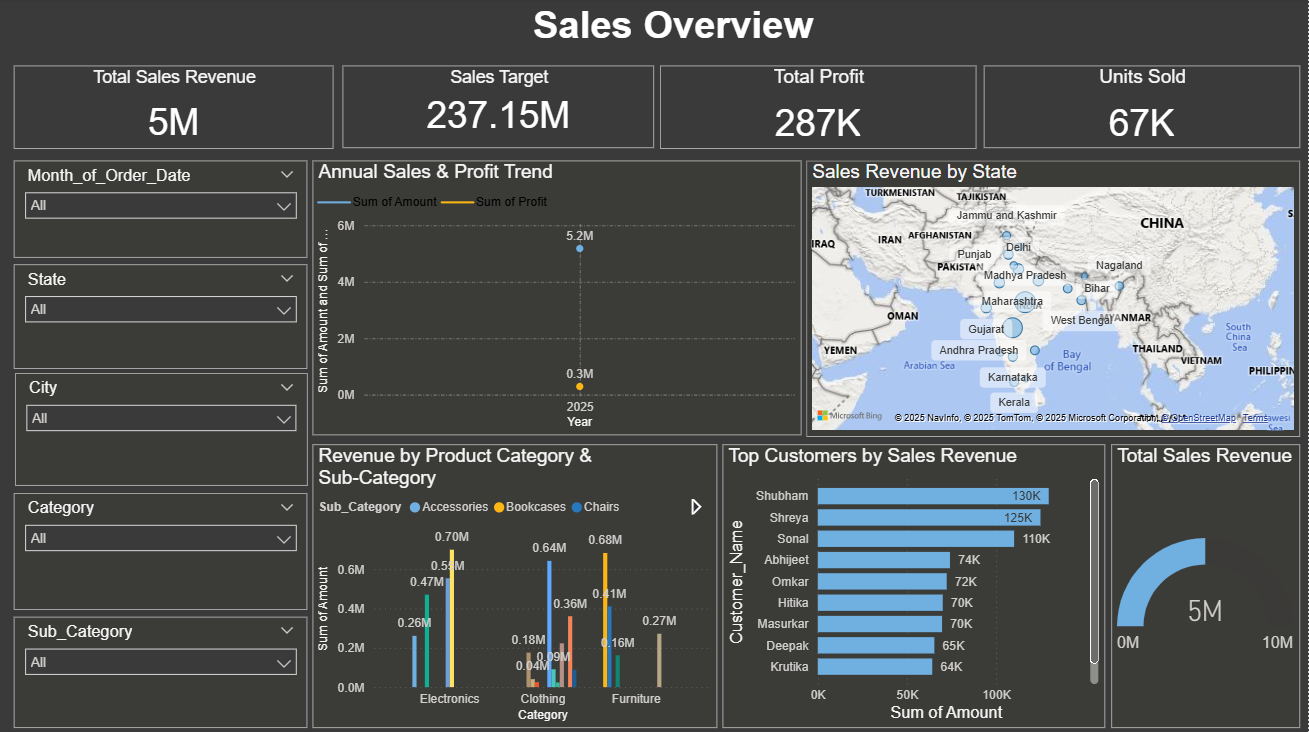

What the dashboard file says about the page in this screenshot:
{"tool":"powerbi","page":{"name":"Sales Overview","canvas":[1280,720],"ordinal":0},"visuals":[{"type":"cardVisual","title":"Total Sales Revenue","fields":{"Data":["Sum(Query1.Amount)"]},"box":[13.5,66,313,81.9],"z":0},{"type":"cardVisual","title":"Total Profit","fields":{"Data":["Sum(Query1.Profit)"]},"box":[646,66,309.4,81.9],"z":1000},{"type":"cardVisual","title":"Units Sold","fields":{"Data":["Sum(Query1.Quantity)"]},"box":[962.4,66,309.4,81],"z":2000},{"type":"cardVisual","title":"Sales Target","fields":{"Data":["Sum(Query1.Target)"]},"box":[335.1,66,305,80.7],"z":3000},{"type":"slicer","fields":{"Values":["Query1.Month_of_Order_Date"]},"box":[13.5,159,287.4,95.4],"z":4000},{"type":"slicer","fields":{"Values":["Query1.State"]},"box":[13.5,260.5,287.4,102],"z":5000},{"type":"slicer","fields":{"Values":["Query1.City"]},"box":[14.7,366.8,286.1,110],"z":6000},{"type":"slicer","fields":{"Values":["Query1.Category"]},"box":[13.5,484.2,287.4,114],"z":7000},{"type":"slicer","fields":{"Values":["Query1.Sub_Category"]},"box":[13.5,605.3,287.4,108.8],"z":8000},{"type":"lineChart","title":"Annual Sales & Profit Trend","fields":{"Category":["Query1.Month_of_Order_Date.Variation.Date Hierarchy.Year","Query1.Month_of_Order_Date.Variation.Date Hierarchy.Quarter","Query1.Month_of_Order_Date.Variation.Date Hierarchy.Month","Query1.Month_of_Order_Date.Variation.Date Hierarchy.Day"],"Y":["Sum(Query1.Amount)","Sum(Query1.Profit)"]},"box":[305.7,159,478.1,269],"z":9000},{"type":"map","title":"Sales Revenue by State","fields":{"Category":["Query1.State"],"Size":["Sum(Query1.Amount)"]},"box":[788.7,159,483,270.2],"z":10000},{"type":"barChart","title":"Top Customers by Sales Revenue","fields":{"Category":["Query1.Customer_Name"],"Y":["Sum(Query1.Amount)"]},"box":[706.8,436.6,374.2,277.6],"z":11000},{"type":"clusteredColumnChart","title":"Revenue by Product Category & Sub-Category","fields":{"Category":["Query1.Category"],"Y":["Sum(Query1.Amount)"],"Series":["Query1.Sub_Category"]},"box":[305.7,436.6,396.2,277.6],"z":12000},{"type":"gauge","title":"Total Sales Revenue","fields":{"TargetValue":["Sum(Query1.Target)"],"Y":["Sum(Query1.Amount)"]},"box":[1087.1,436.6,184.6,277.6],"z":13000},{"type":"textbox","box":[36.7,0,1243.6,55],"z":14000}]}

Visuals, with their boxes in screenshot pixels (x1, y1, x2, y2), scaled from the page's 1280x720 canvas onto the 1309x732 screenshot:
"Total Sales Revenue" cardVisual: box(14, 67, 334, 150)
"Total Profit" cardVisual: box(661, 67, 977, 150)
"Units Sold" cardVisual: box(984, 67, 1301, 149)
"Sales Target" cardVisual: box(343, 67, 655, 149)
slicer - Query1.Month_of_Order_Date: box(14, 162, 308, 259)
slicer - Query1.State: box(14, 265, 308, 369)
slicer - Query1.City: box(15, 373, 308, 485)
slicer - Query1.Category: box(14, 492, 308, 608)
slicer - Query1.Sub_Category: box(14, 615, 308, 726)
"Annual Sales & Profit Trend" lineChart: box(313, 162, 802, 435)
"Sales Revenue by State" map: box(807, 162, 1301, 436)
"Top Customers by Sales Revenue" barChart: box(723, 444, 1105, 726)
"Revenue by Product Category & Sub-Category" clusteredColumnChart: box(313, 444, 718, 726)
"Total Sales Revenue" gauge: box(1112, 444, 1301, 726)
textbox: box(38, 0, 1308, 56)
